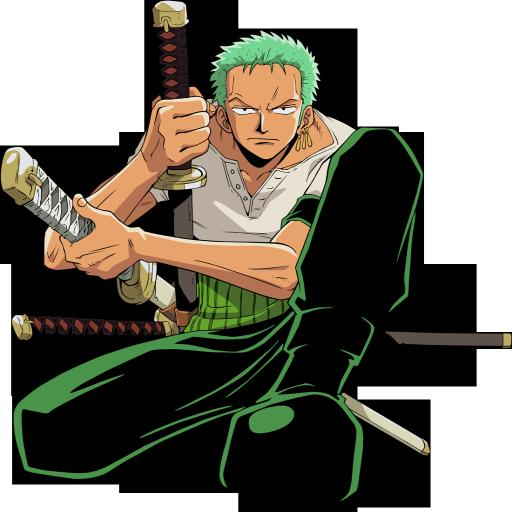Zoro: (0, 5, 456, 512)
